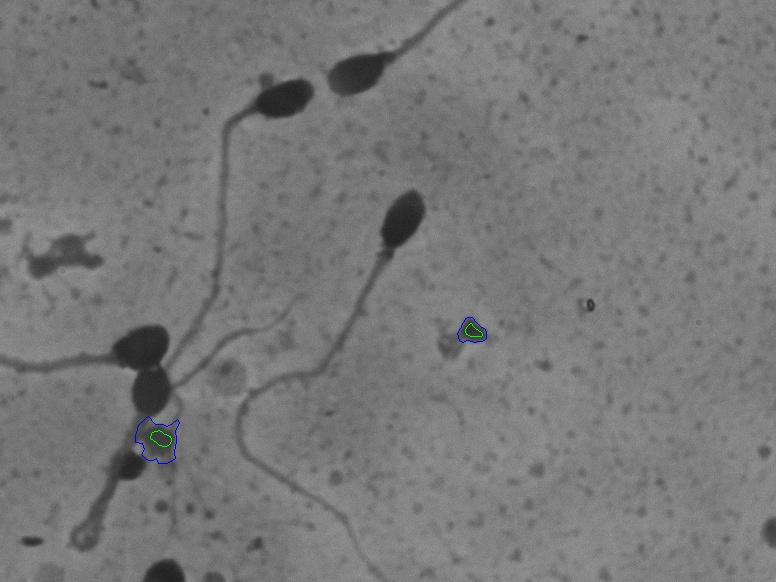Abnormal: (161, 59, 320, 288)
Normal: (226, 176, 436, 571)
